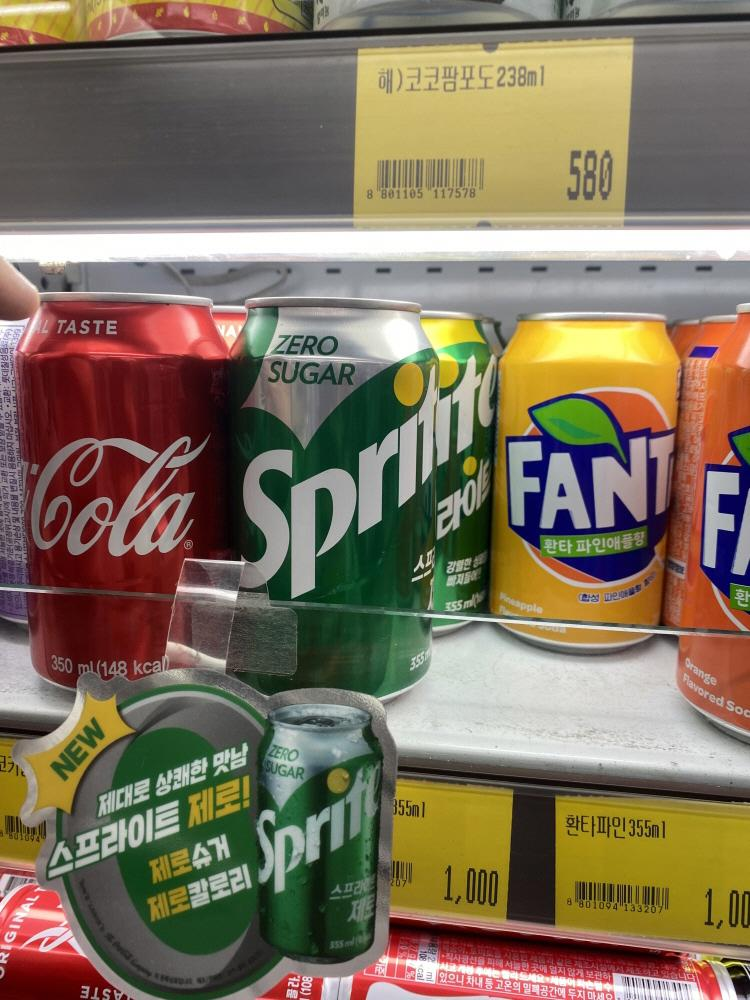cocacola: (11, 283, 217, 691)
sprite: (228, 283, 437, 705)
